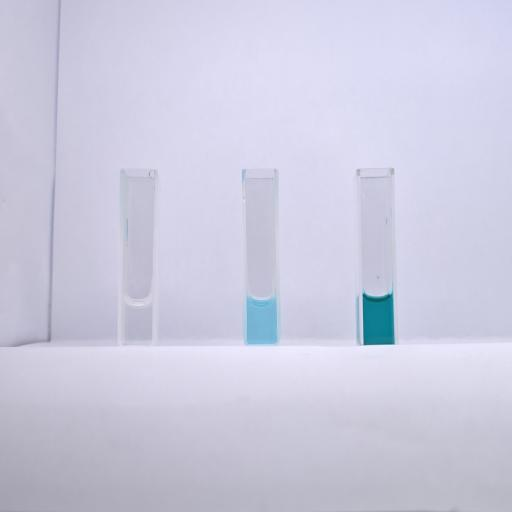cuvette: (355, 166, 400, 348), (116, 164, 160, 348), (240, 166, 282, 347)
liquid: (363, 294, 394, 345), (247, 296, 277, 344), (123, 297, 152, 344)
